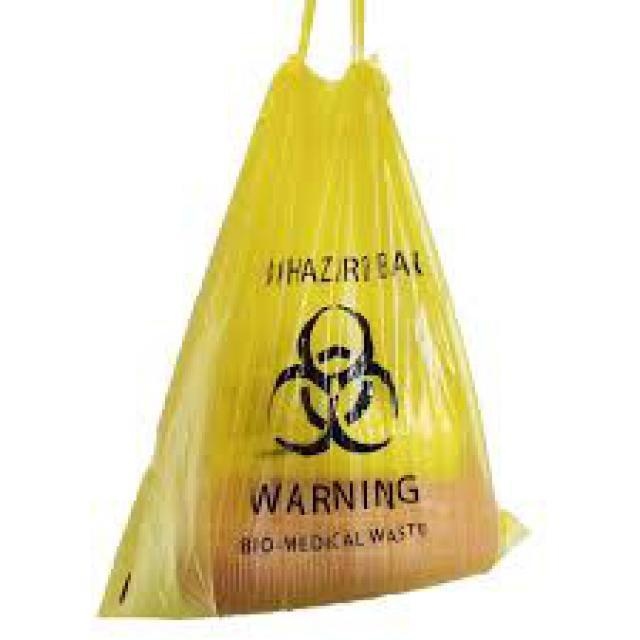waste: (94, 0, 535, 620)
